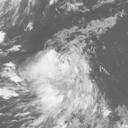cyclone: (24, 49, 98, 110)
